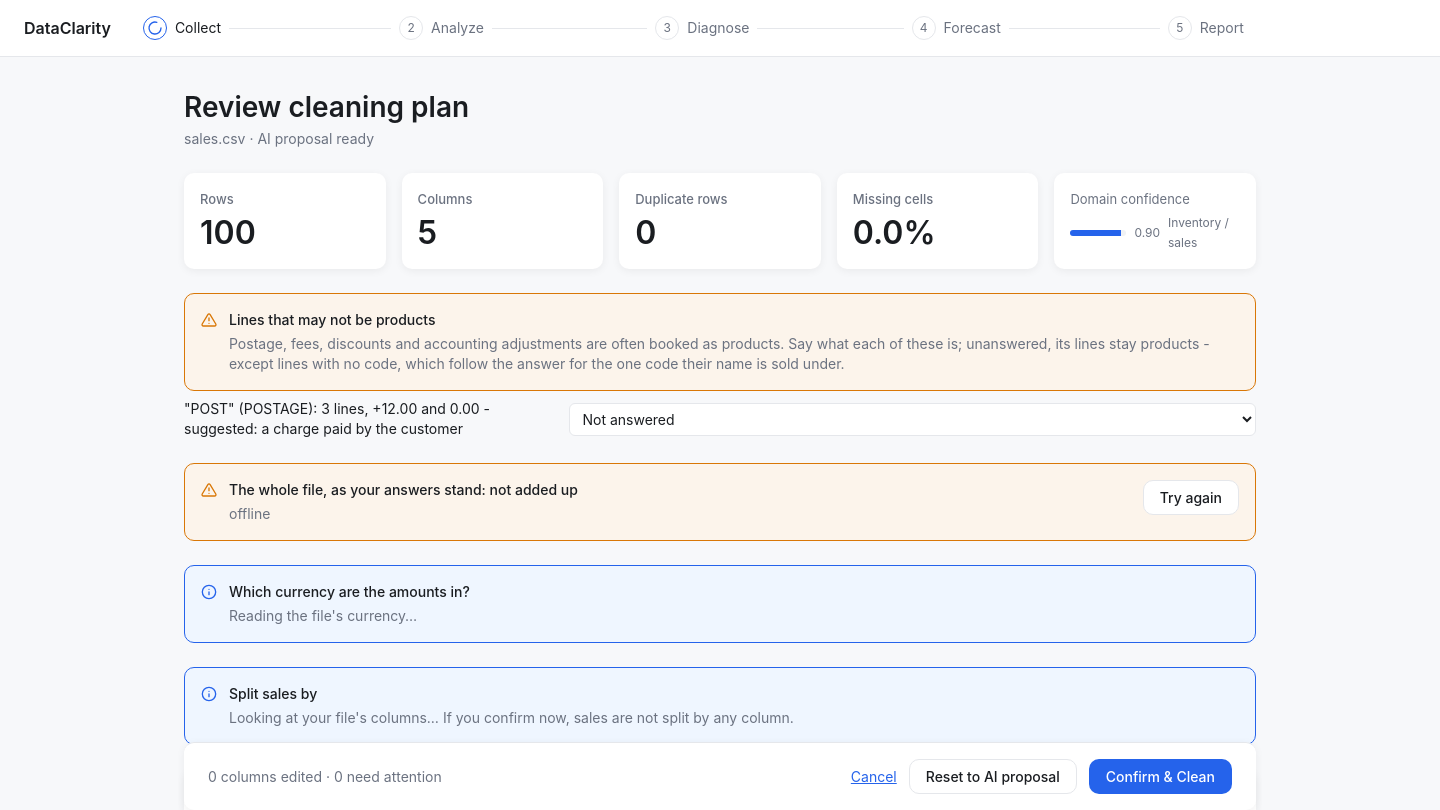
Test: ReviewPage: the whole file as the answers stand (2E-t3) › says it could not add up, and offers to try again
The image size is (1440, 810).
expect the text "The whole file, as your answers stand: not added up" is shown: met, box [229,481,578,498]
Click the button "Try again".
click(1191, 498)  # box [1143,480,1239,515]
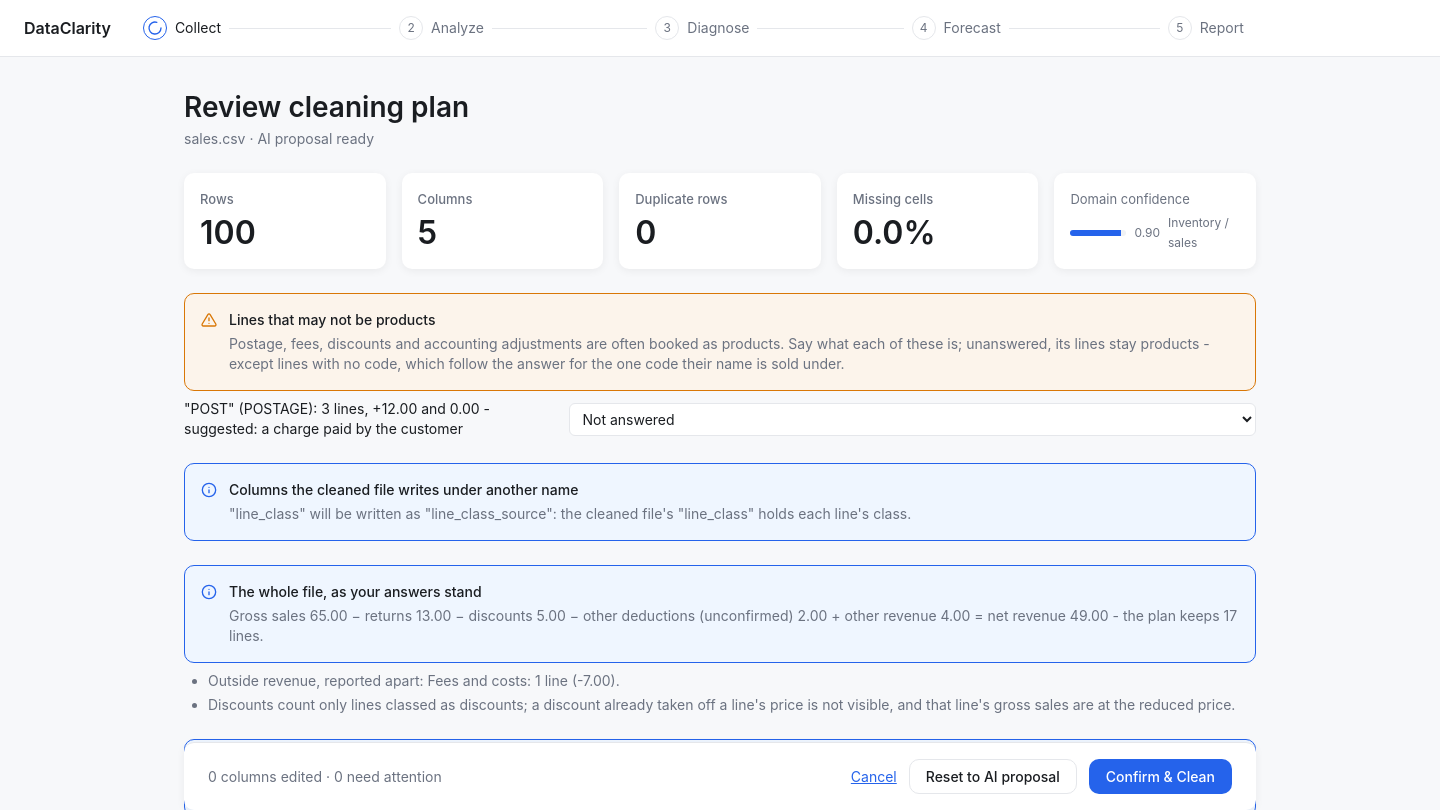
expect the text "= net revenue 49.00" is shown: met, box [229,607,1109,624]
